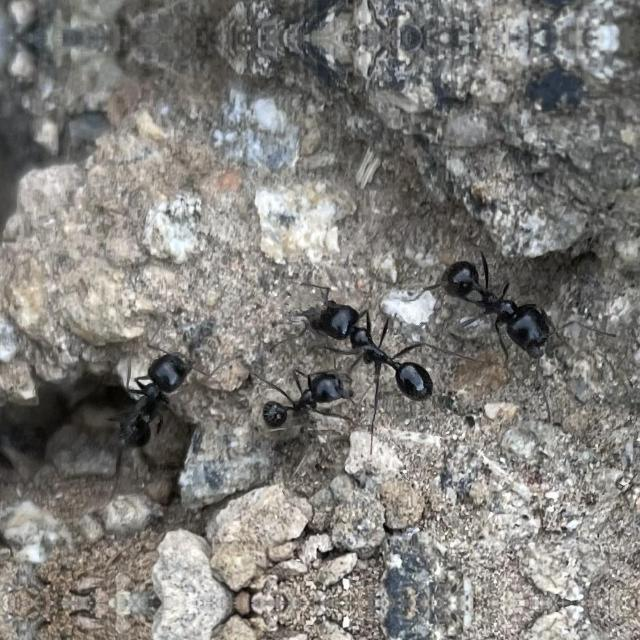Messor: (308, 284, 444, 412), (438, 258, 550, 368), (256, 363, 372, 452), (106, 341, 194, 453)
